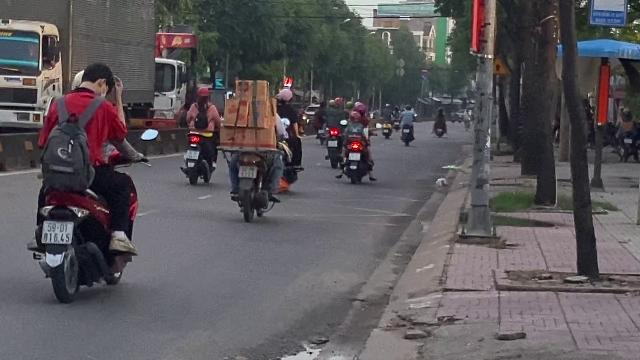helmet: (196, 85, 210, 101)
licenseplate: (42, 221, 72, 243), (238, 166, 256, 178)
motorcyclist: (25, 57, 145, 302), (222, 71, 284, 221), (181, 84, 221, 184)
nohelmet: (80, 62, 112, 96)
